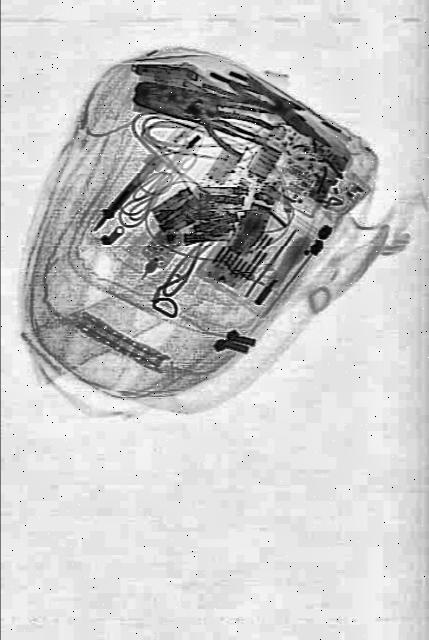Pliers: (148, 76, 276, 172)
